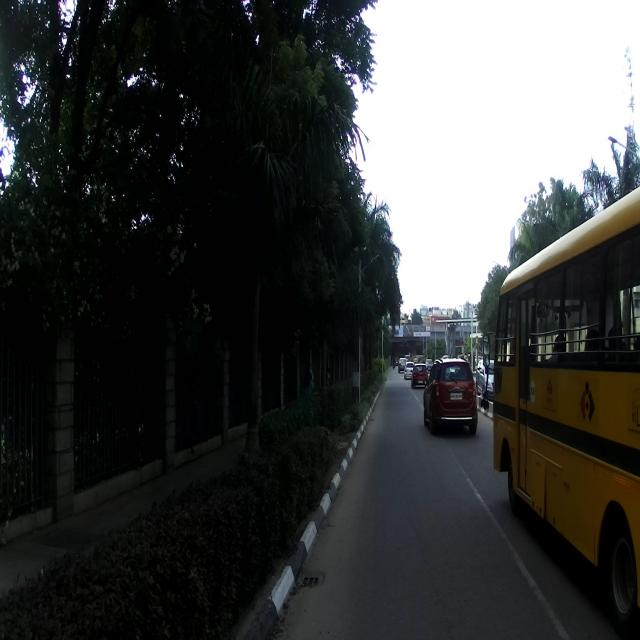bus: (482, 186, 640, 636)
car: (422, 356, 478, 437)
